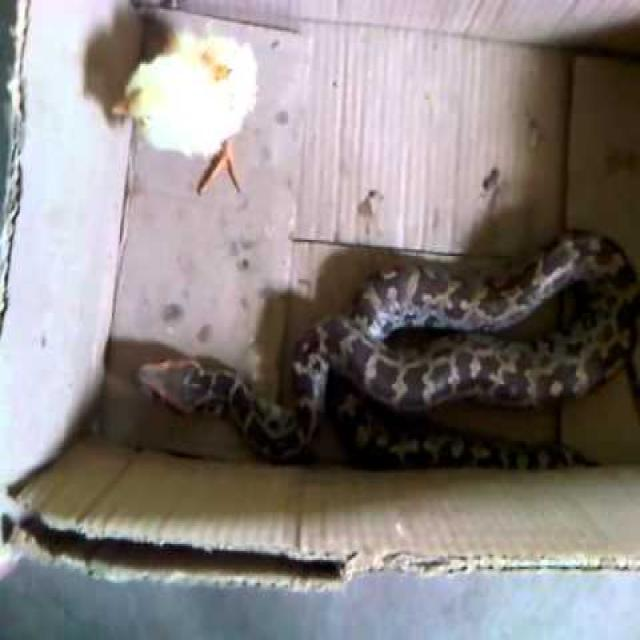Snake: (125, 218, 640, 498)
